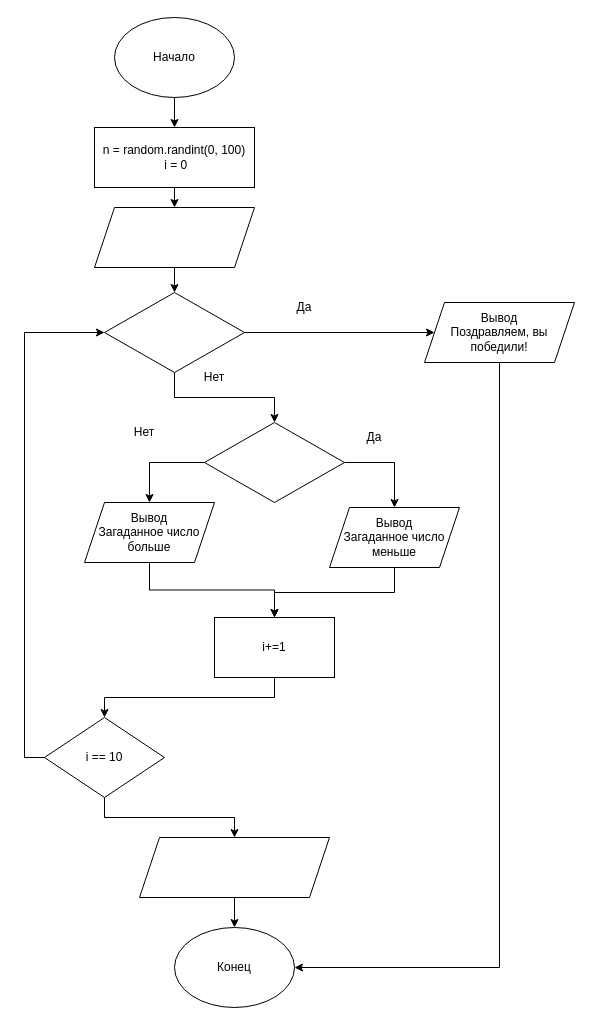
Image size: 592x1025. Some labels were removed from this diagram. The shapes that lost their labels are listed below. From the top down, each one's box as (x1, y1, x2, y2) in pixels, then its label:
(94, 206, 254, 268): Ввод a
(104, 292, 244, 372): a==n
(204, 422, 344, 502): a<n
(138, 836, 330, 898): Вывод f'Вы проиграли. Загаданное число это {n}'
